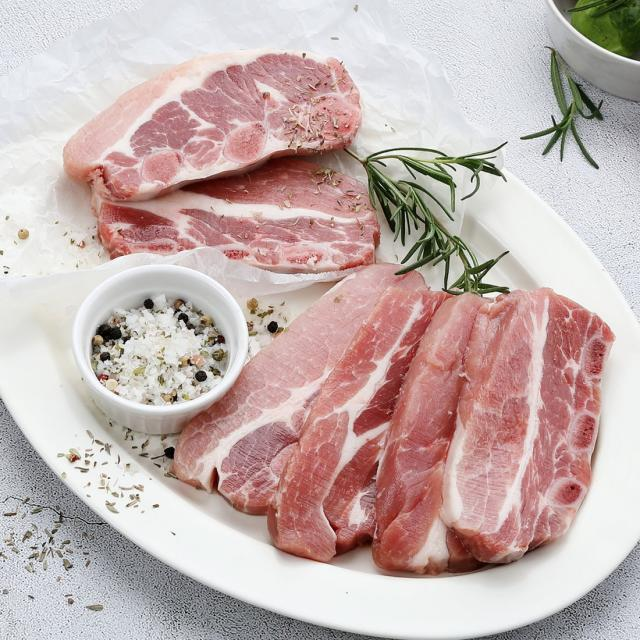pork: (44, 23, 632, 605)
